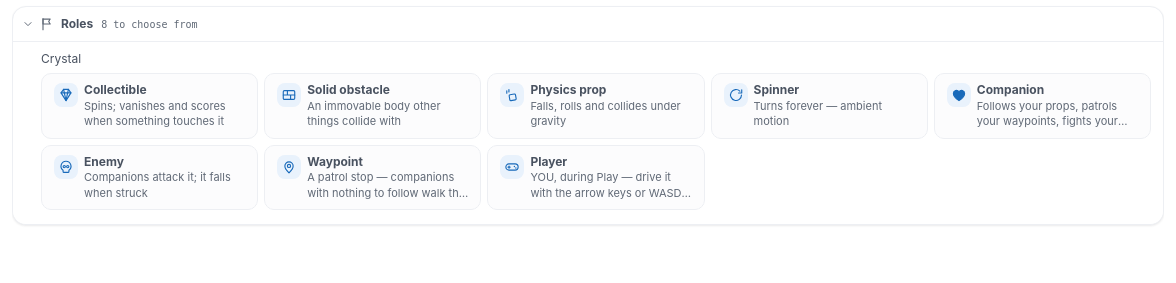
Test: a refusal is explained inline and the roster stays unchanged
This screenshot has width=1176, height=283.
Click the button with test id "role-collectible".
click(150, 106)  # box [41,73,258,139]
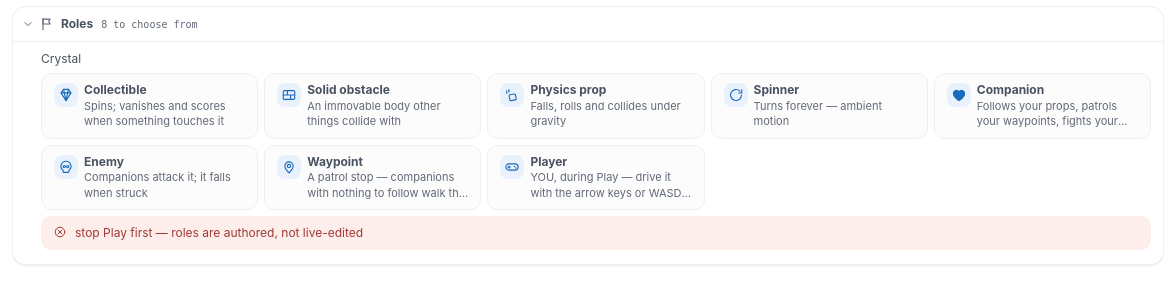
Expected: the message with test id "role-refusal" shows "stop Play first", [75,225,363,240]
